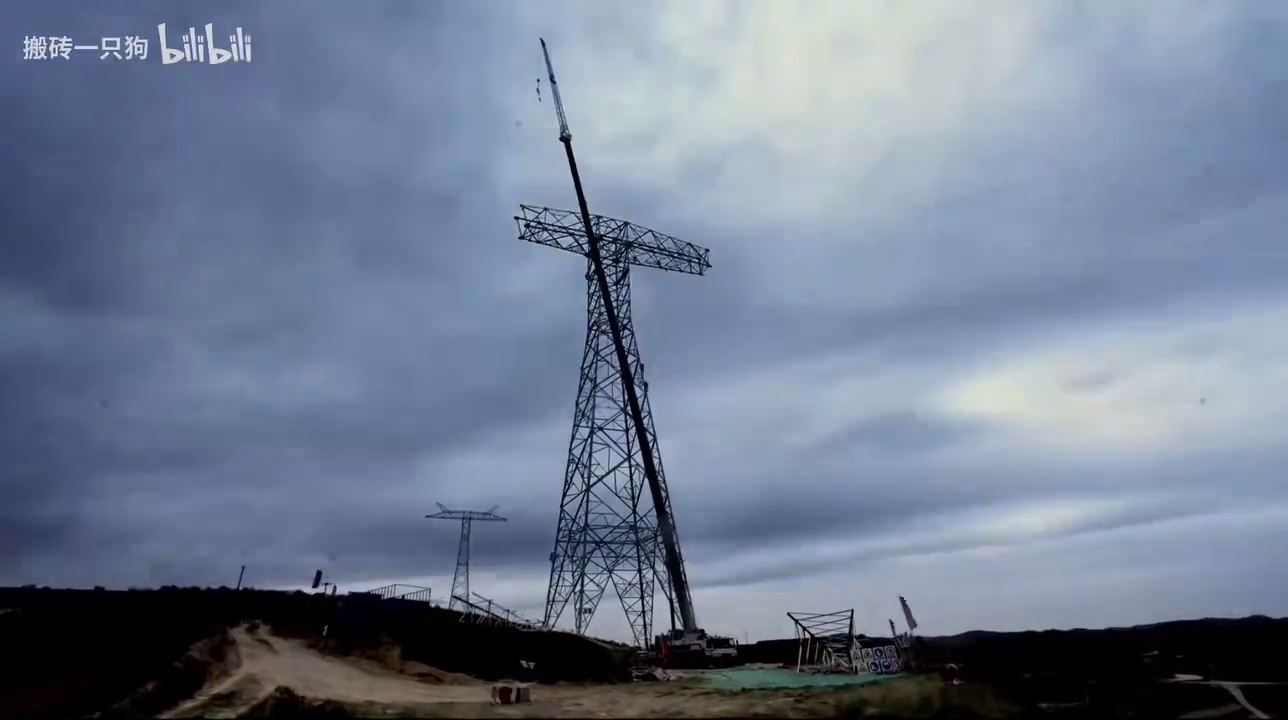tower_body: (506, 186, 723, 647)
tower_foot: (531, 517, 707, 642)
tower_head: (510, 196, 716, 279)
